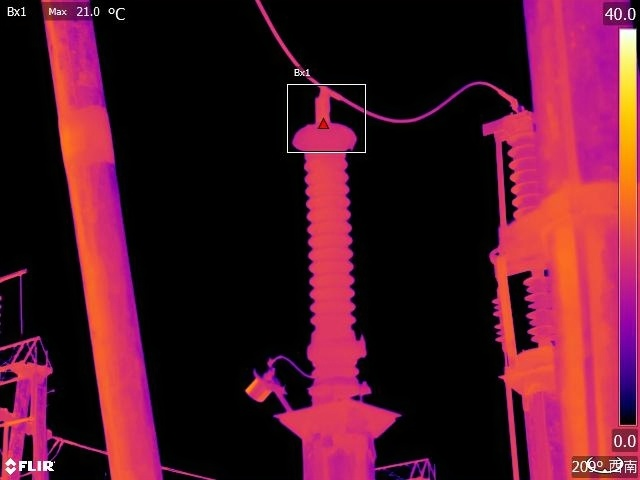lightning arrester: (278, 102, 380, 411)
post insulator: (506, 131, 544, 354)
